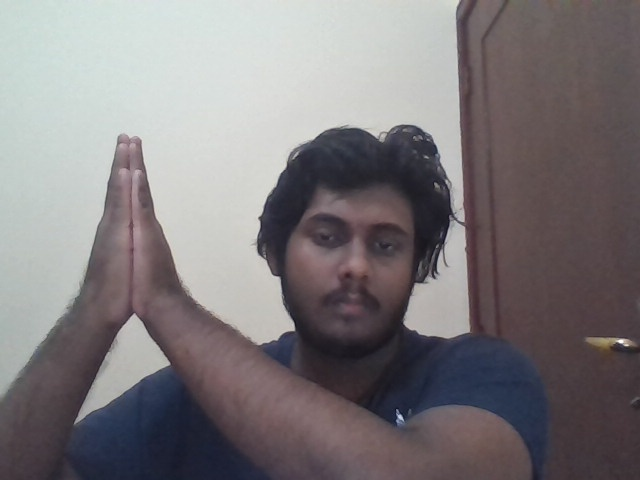namaste: (86, 133, 182, 319)
